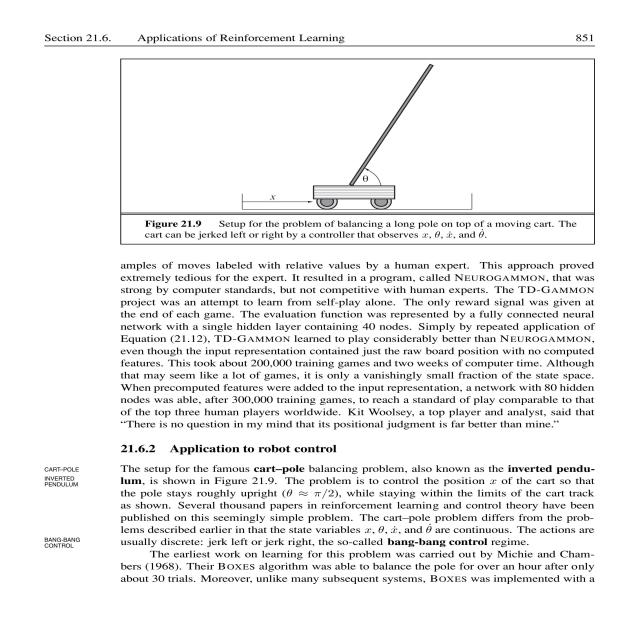diagram: (121, 57, 640, 249)
